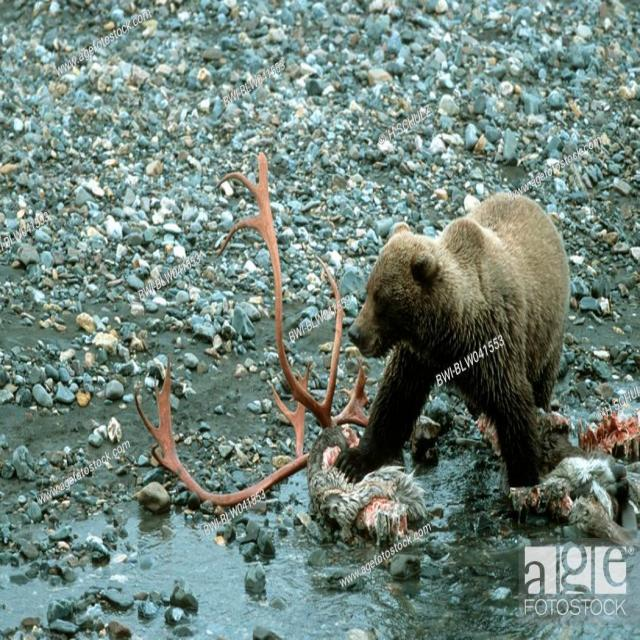Bear: (322, 193, 571, 496)
